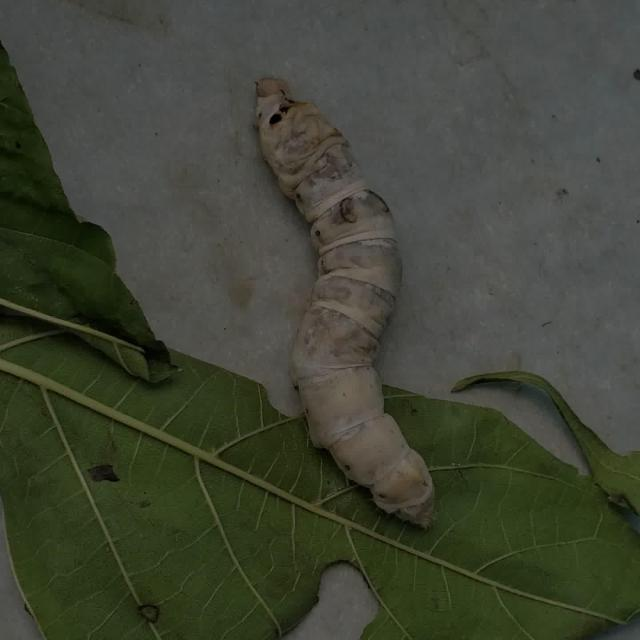Grasserie: (220, 34, 502, 551)
